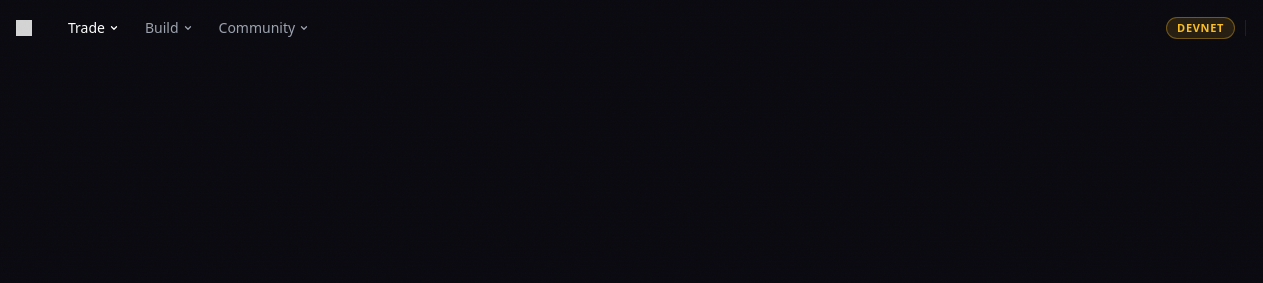
Test: Header › dismisses Trade dropdown on Escape
Click the button "Trade" at [94, 28], box [56,12,131,44]
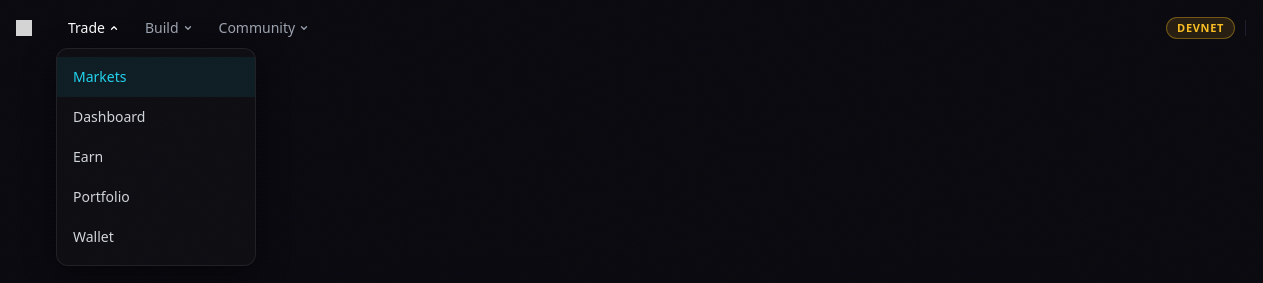
Result: the menu item "Wallet" is shown at [73,227,114,246]
Press Escape
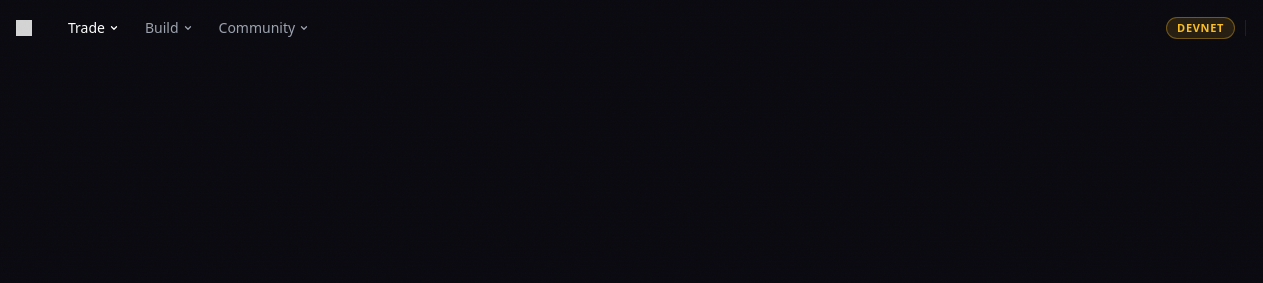
Result: the menu item "Wallet" is gone
